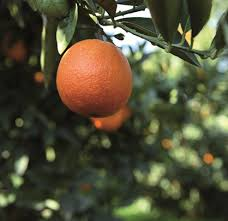orange: (51, 37, 135, 115)
